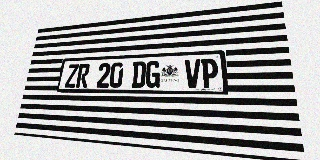0: (109, 62, 124, 88)
2: (96, 63, 111, 88)
D: (131, 61, 146, 88)
G: (145, 61, 161, 88)
P: (201, 58, 219, 88)
R: (76, 64, 90, 88)
V: (185, 59, 201, 88)
Z: (65, 64, 79, 88)
